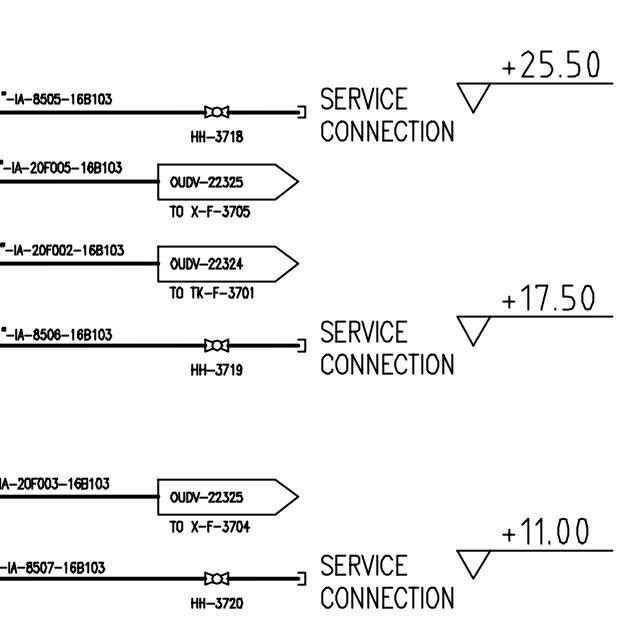BV2: (200, 336, 233, 359), (200, 99, 231, 122), (201, 569, 231, 589)
EJ: (275, 568, 309, 589), (282, 333, 310, 356), (279, 100, 309, 121)
